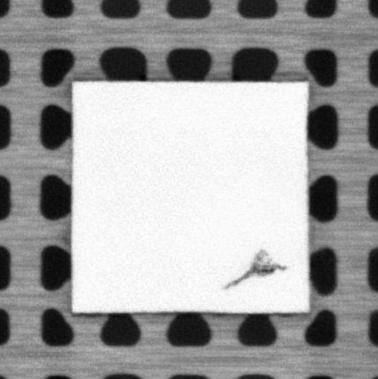DIE_INK: (223, 247, 288, 292)
